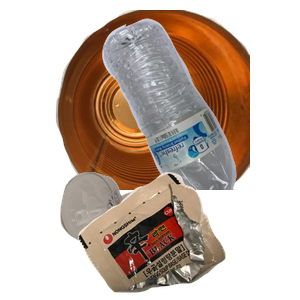glass: (58, 170, 202, 300)
metal: (53, 10, 293, 190)
plastic: (100, 16, 300, 196)
trash: (76, 170, 300, 300)
